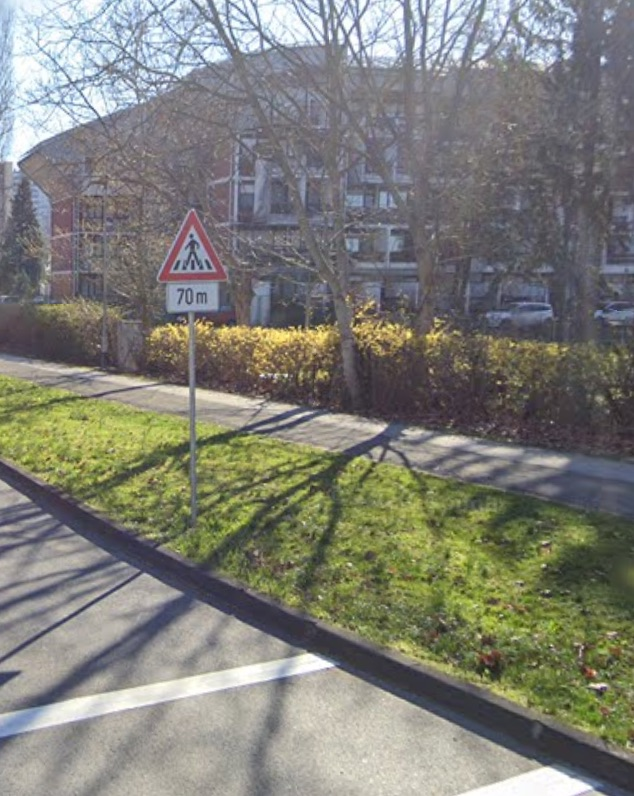Približavanje pješačkom prijelazu: (157, 208, 228, 283)
